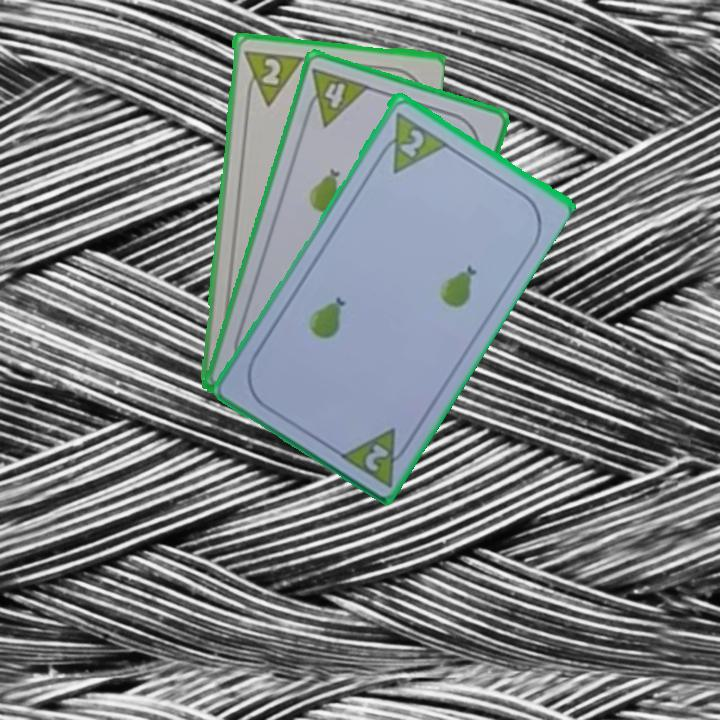2p: (334, 422, 416, 489), (372, 107, 449, 176), (258, 54, 283, 88)
4p: (300, 64, 373, 129)
